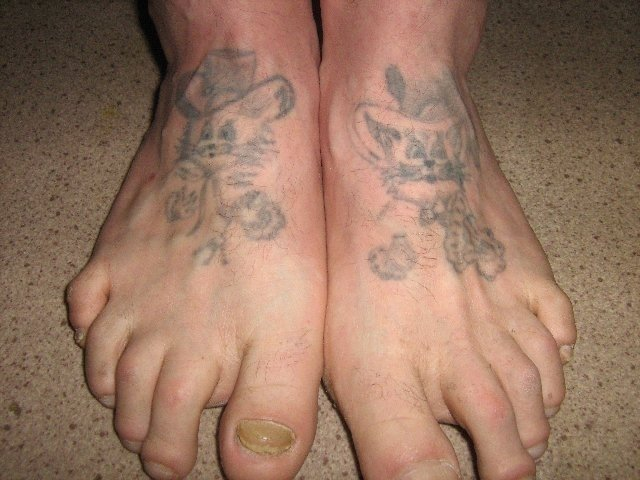tatu8_kot: (338, 57, 516, 284), (164, 50, 303, 267)
